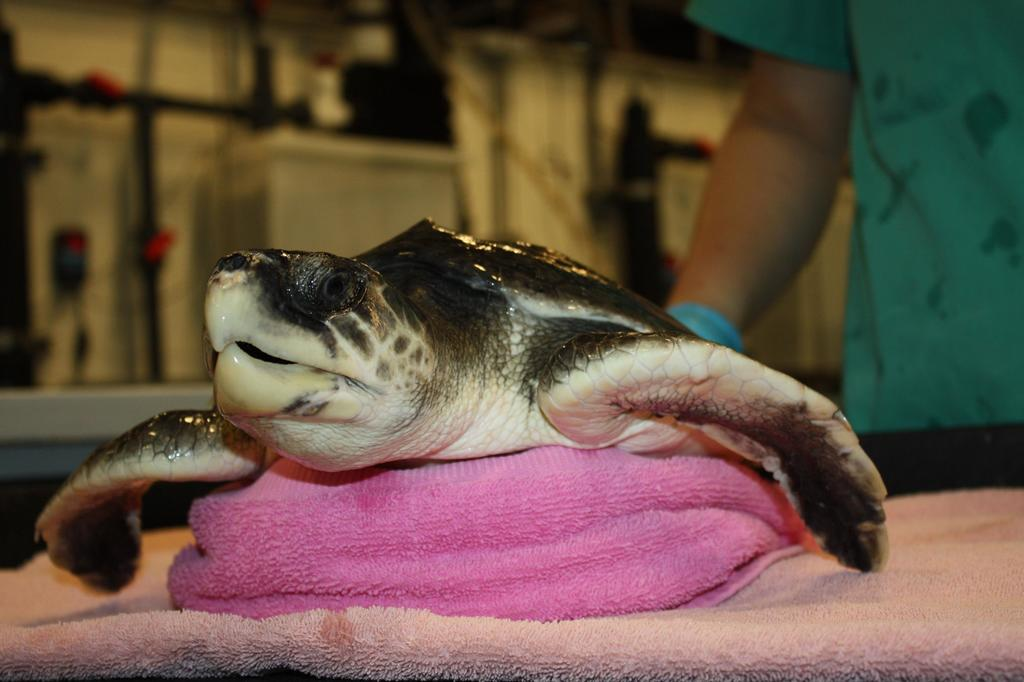Sea turtles: (27, 211, 892, 598)
